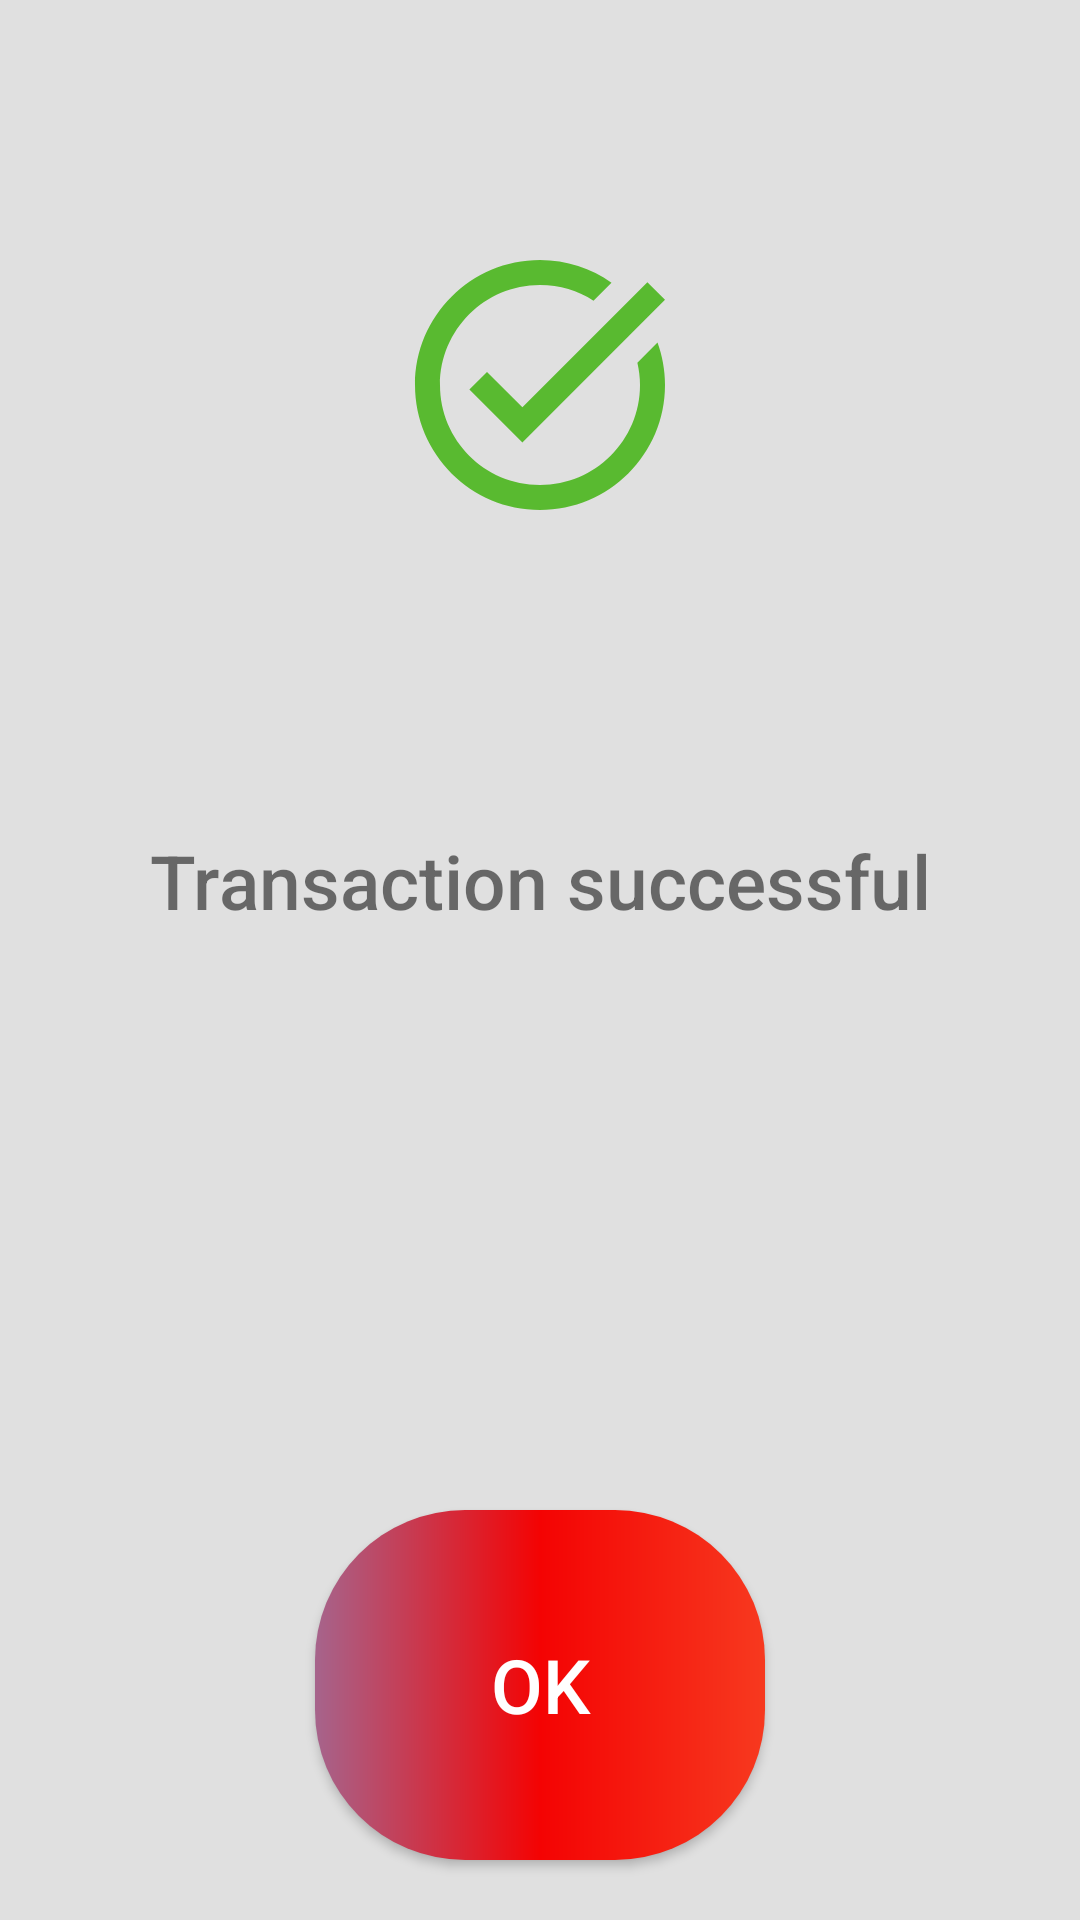

Where icons sit on this 1080w x 1920h app screen, as [x1=x1, y1=y1, x2=x2, y2=y2]:
task: [x1=415, y1=260, x2=665, y2=510]
